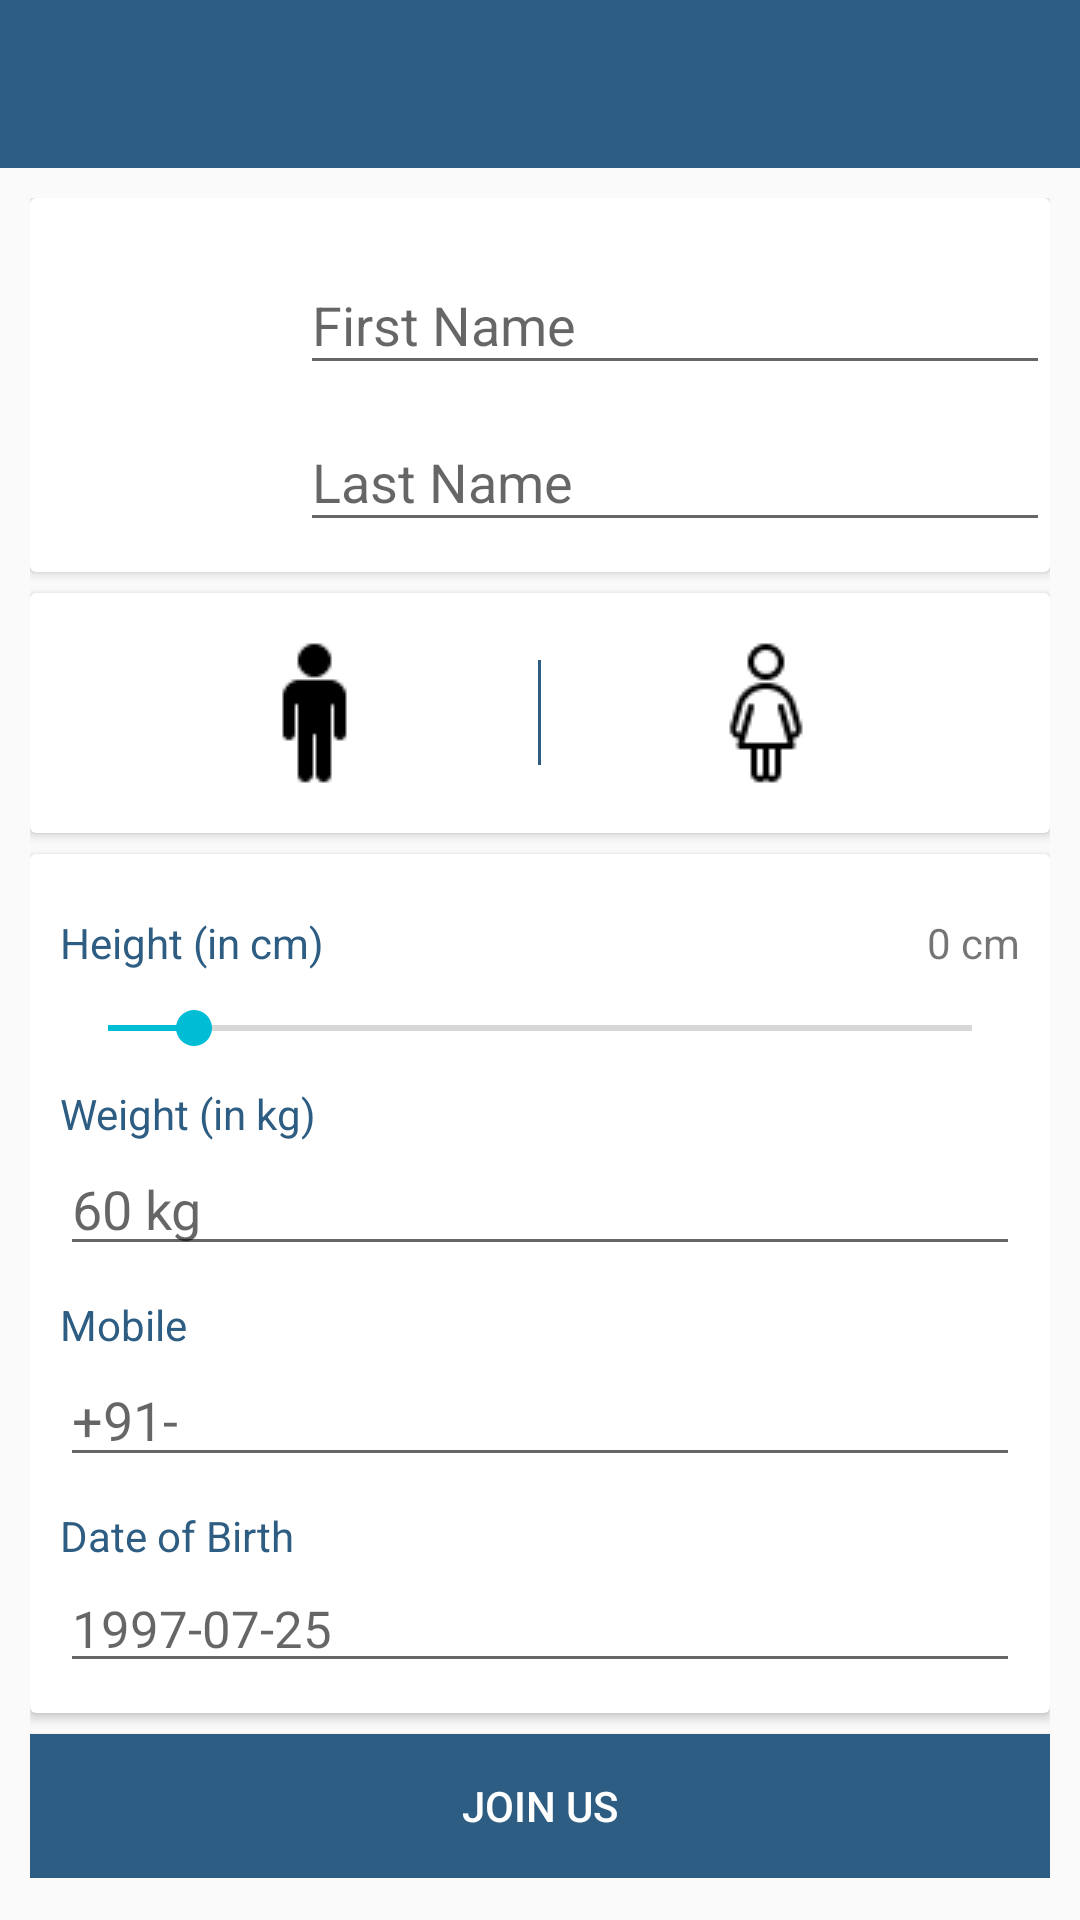

Where to tap for icons on this 1080px x 1920px app screen, as [x,y]:
female: [766,713]
male: [314,713]
